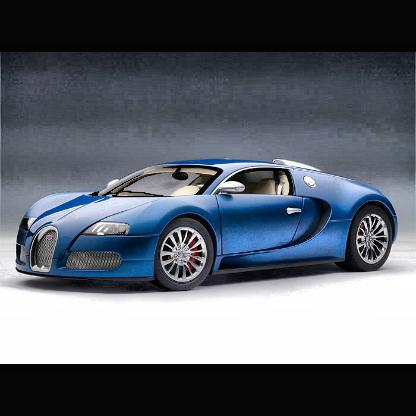Bugatti Veyron 16-4 Coupe 2009: (17, 160, 399, 291)
